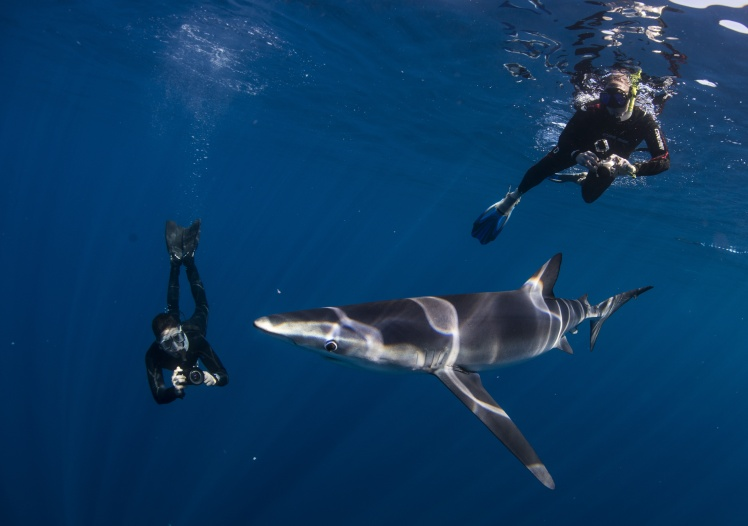Azul: (250, 252, 663, 512)
